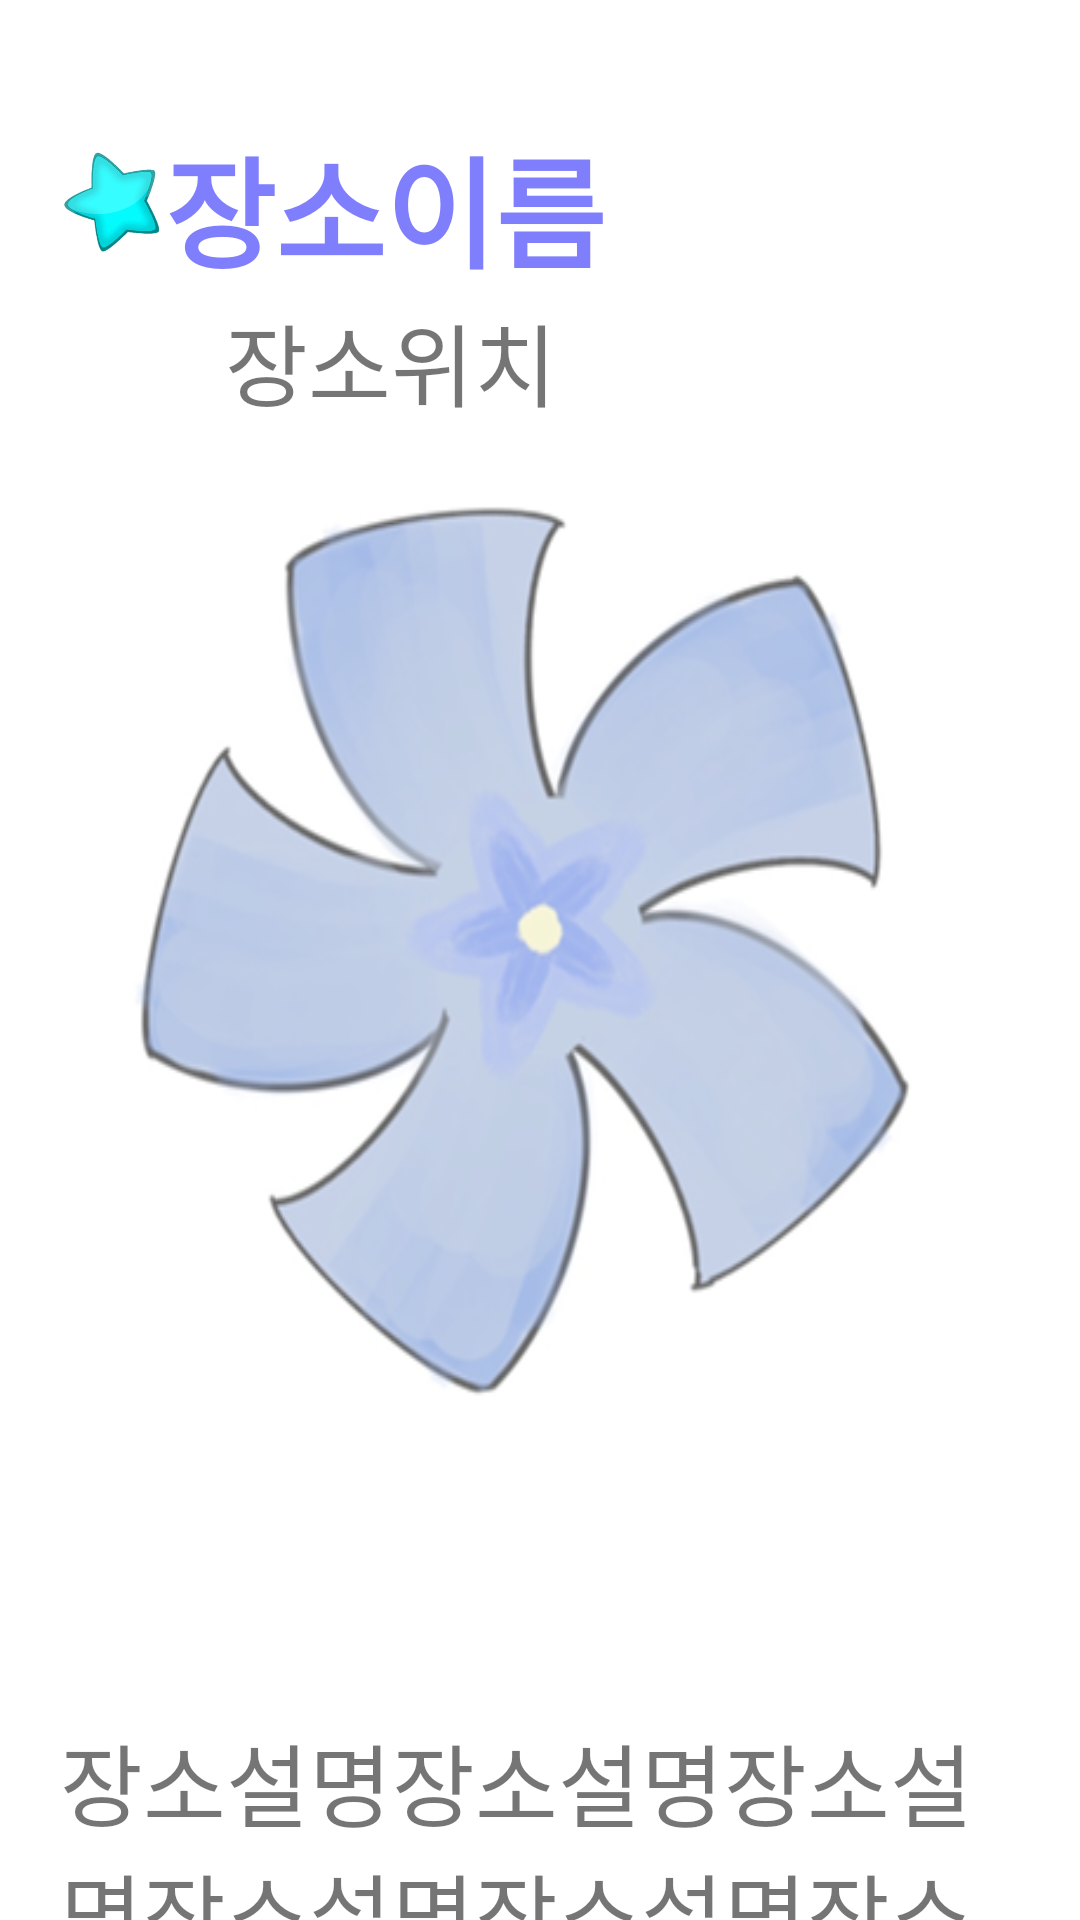

Screen size 1080w x 1920h. Icon name, then its box in pixels as (x1, y1, x2, y2):
star: (64, 152, 159, 252)
